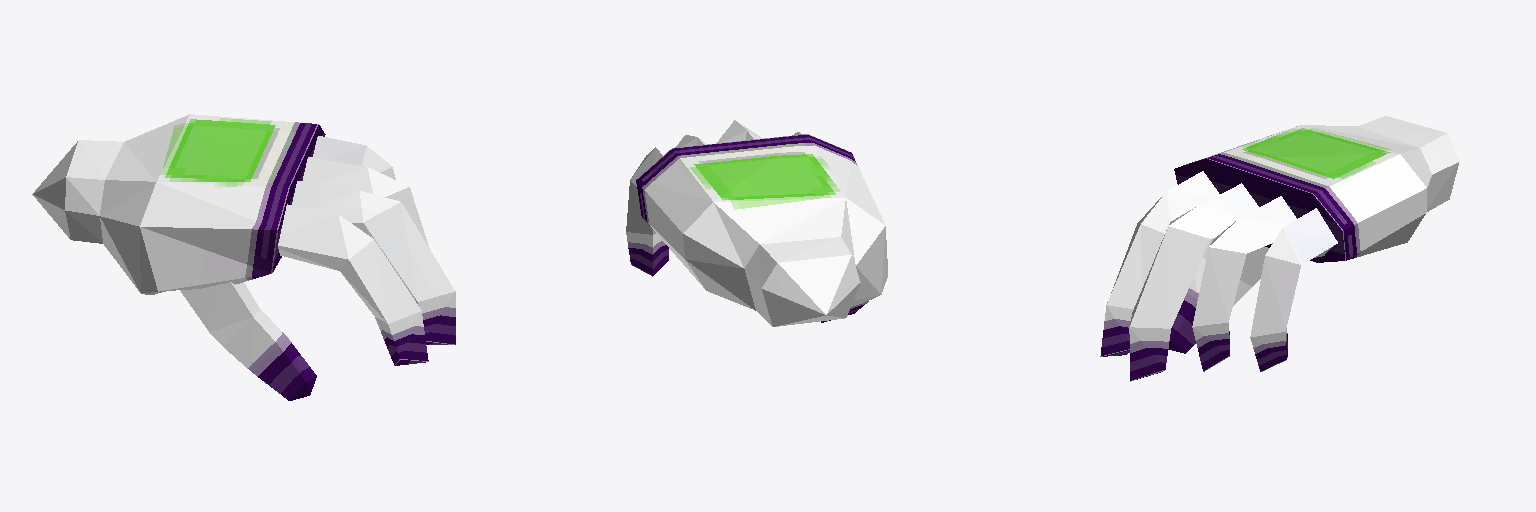
3 views of the same model, side by side, from view 1: azimuth 30°, elevation 25°; view 2: azimuth 150°, elevation 25°; view 3: azimuth 270°, elevation 25° (orthographic).
Visible parts, largest first — view 1: buzzlightyLeftHand_buzzlighty.001; view 2: buzzlightyLeftHand_buzzlighty.001; view 3: buzzlightyLeftHand_buzzlighty.001.
Boxes of the visible parts, box(x1,y1,x2,y2) form: buzzlightyLeftHand_buzzlighty.001: box(32, 114, 455, 400); buzzlightyLeftHand_buzzlighty.001: box(626, 120, 887, 326); buzzlightyLeftHand_buzzlighty.001: box(1100, 116, 1459, 381).
Size of the model in its own units: 0.1068 by 0.0724 by 0.1173.
Materials: 1 (1 with a texture image).